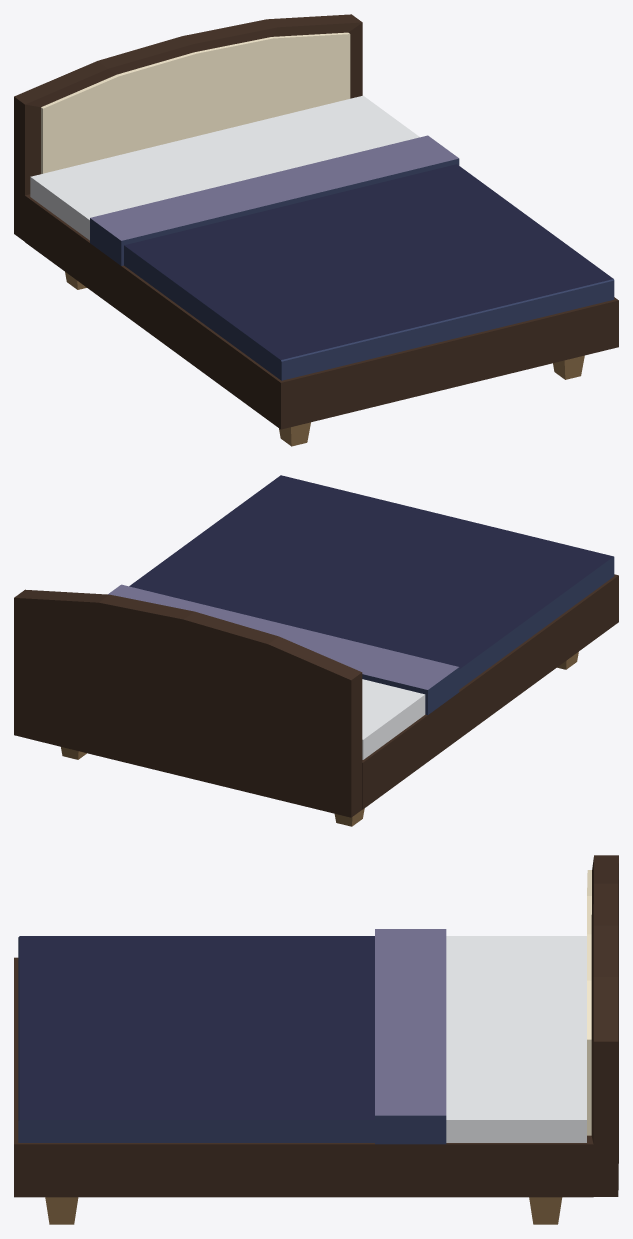
Rendered from Accesories_Bed_Large.018.glb.
3 views of the same model, one above another, from view 1: azimuth 30°, elevation 25°; view 2: azimuth 150°, elevation 25°; view 3: azimuth 270°, elevation 25° (orthographic). The views are drawn at different scales.
Visible parts, largest first — view 1: Accesories_Bed_Large.018; view 2: Accesories_Bed_Large.018; view 3: Accesories_Bed_Large.018.
Part boxes in pixels (box(x1,y1,x2,y2)): Accesories_Bed_Large.018: box(14, 14, 618, 446); Accesories_Bed_Large.018: box(14, 475, 618, 826); Accesories_Bed_Large.018: box(14, 855, 618, 1224).
Bounding box in the file's own units: 1.6 × 0.8708 × 2.2.
Materials: 1 (1 with a texture image).
